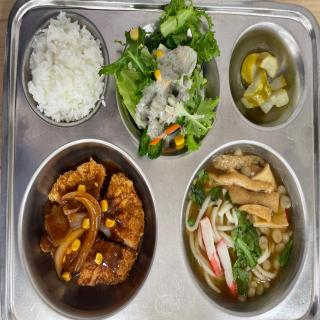Nasi: (27, 16, 114, 125)
